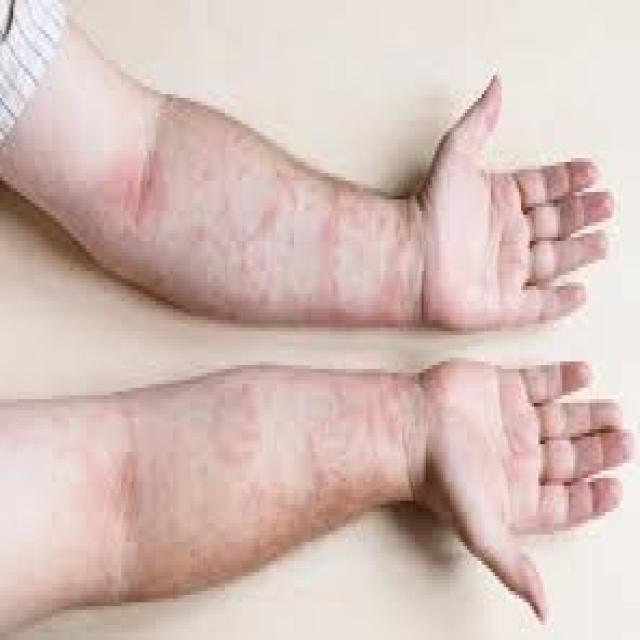Eczema: (114, 136, 437, 328), (128, 392, 451, 555)
